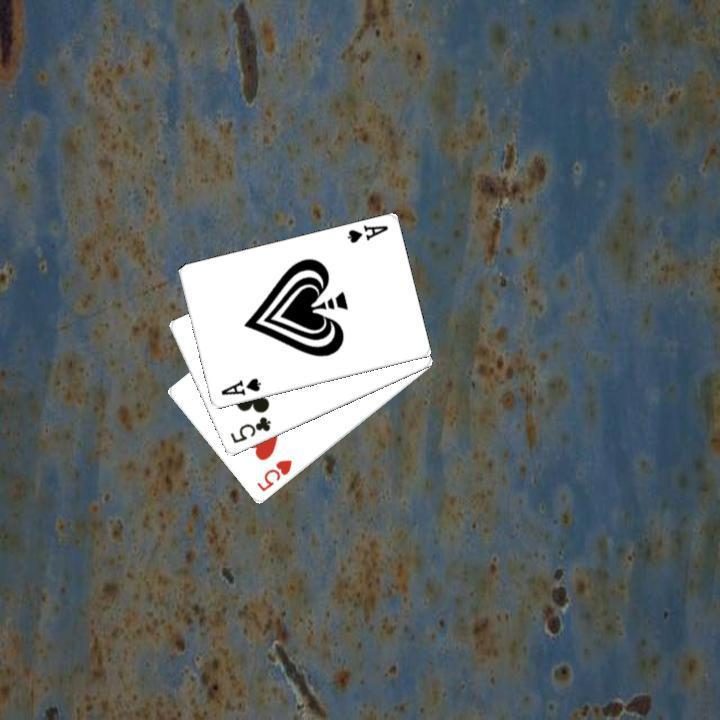5: (252, 455, 294, 494), (226, 412, 273, 446)
A: (342, 221, 390, 246), (216, 374, 263, 398)
